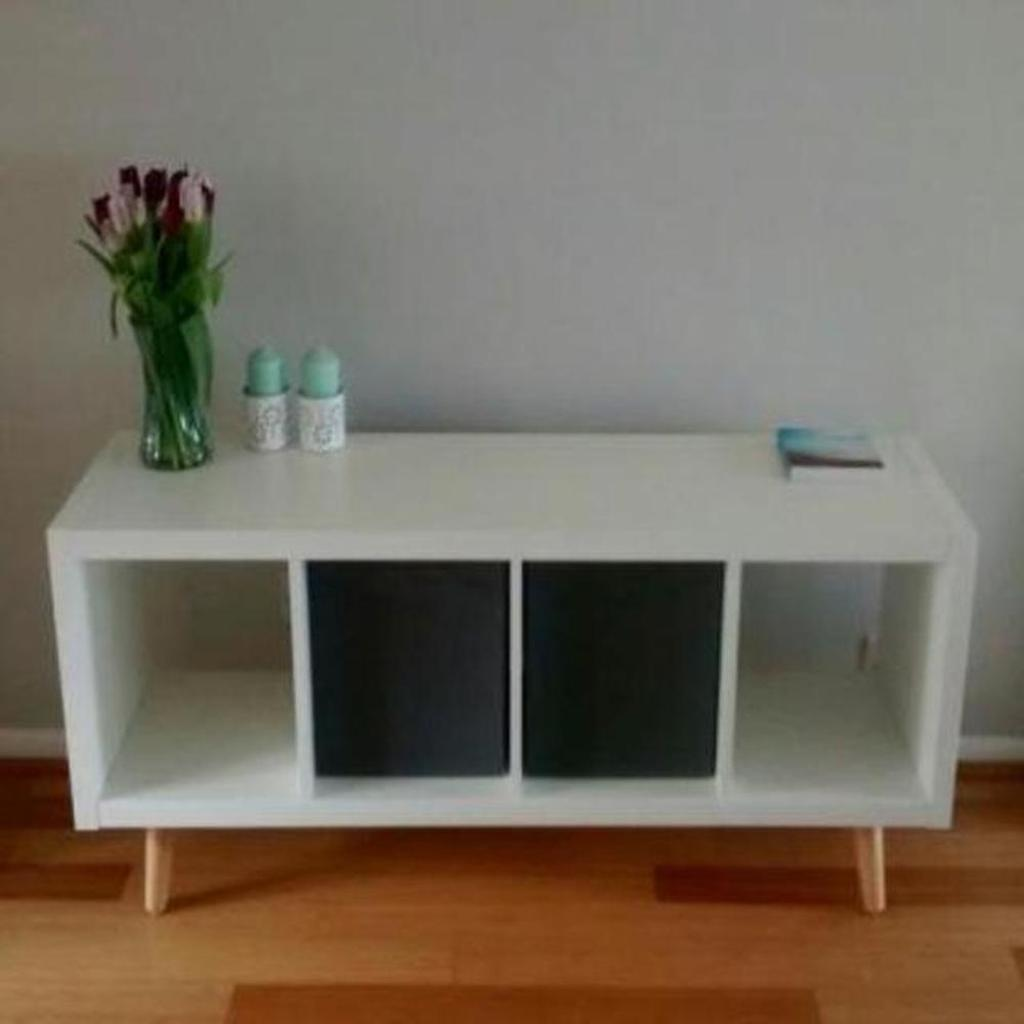lamp: (42, 425, 982, 919)
